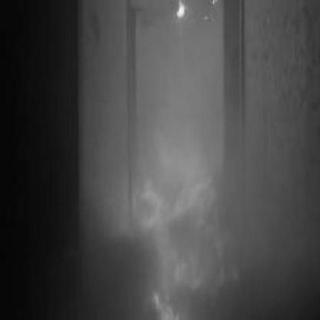Fire: (129, 190, 243, 318)
